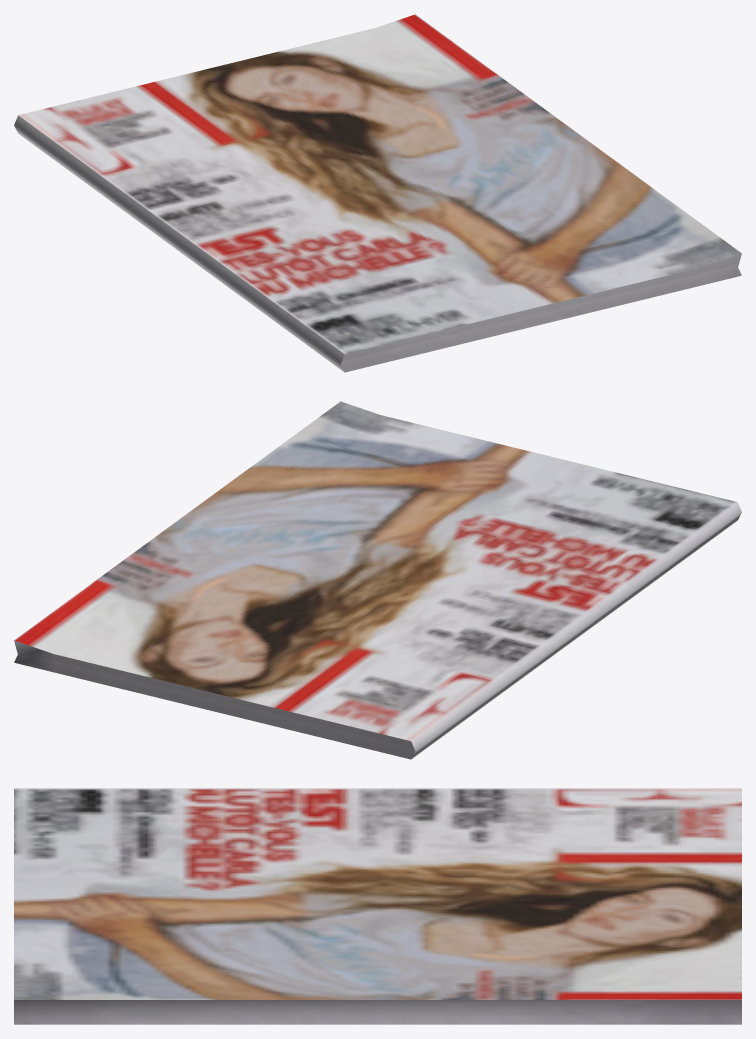
Rendered from XiuXiShi_01_zazhi_02.FBX.
3 renders of one model, top to bottom at view 1: azimuth 30°, elevation 25°; view 2: azimuth 150°, elevation 25°; view 3: azimuth 270°, elevation 25°, orthographic. The views are drawn at different scales.
Parts seen in each view (by area): view 1: XiuXiShi_zazhi_02; view 2: XiuXiShi_zazhi_02; view 3: XiuXiShi_zazhi_02.
Part boxes in pixels (x1,y1,x2,y2): XiuXiShi_zazhi_02: (14,14,741,372); XiuXiShi_zazhi_02: (14,401,741,759); XiuXiShi_zazhi_02: (14,788,741,1024).
Bounding box in the file's own units: 128 × 6.78 × 180.
